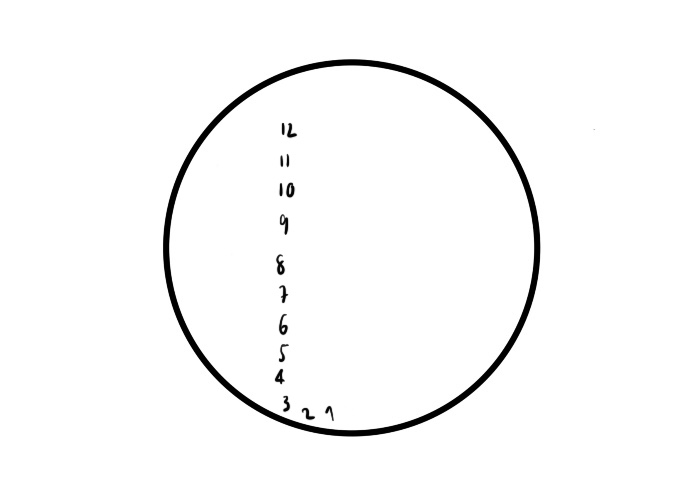eight: (275, 251, 288, 277)
eleven: (276, 151, 294, 172)
five: (277, 341, 289, 364)
four: (272, 366, 287, 386)
nine: (277, 213, 292, 236)
one: (322, 405, 337, 423)
seven: (277, 283, 289, 305)
six: (278, 314, 288, 336)
ten: (277, 180, 296, 201)
three: (279, 393, 292, 413)
twelve: (278, 118, 299, 140)
two: (301, 404, 316, 423)
